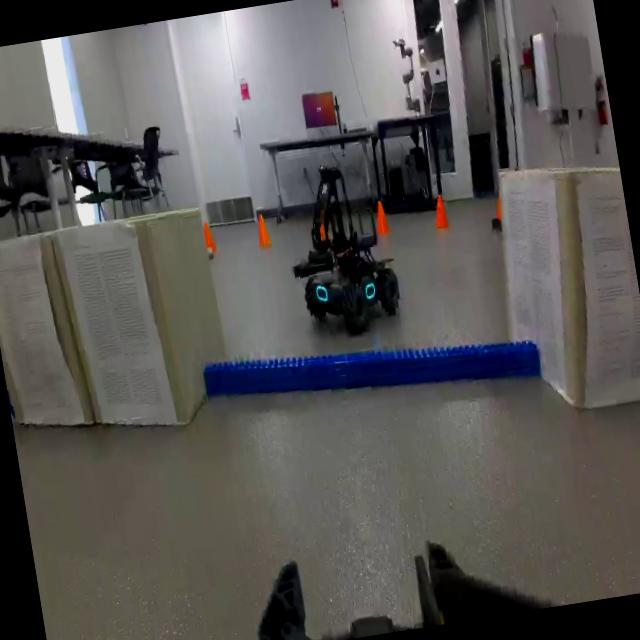cone: (436, 194, 450, 226), (377, 200, 390, 234), (259, 214, 271, 245), (204, 221, 216, 250)
river: (204, 340, 541, 396)
robot: (294, 166, 400, 332)
storage cube: (53, 213, 227, 421), (501, 168, 640, 408), (0, 233, 94, 424)
